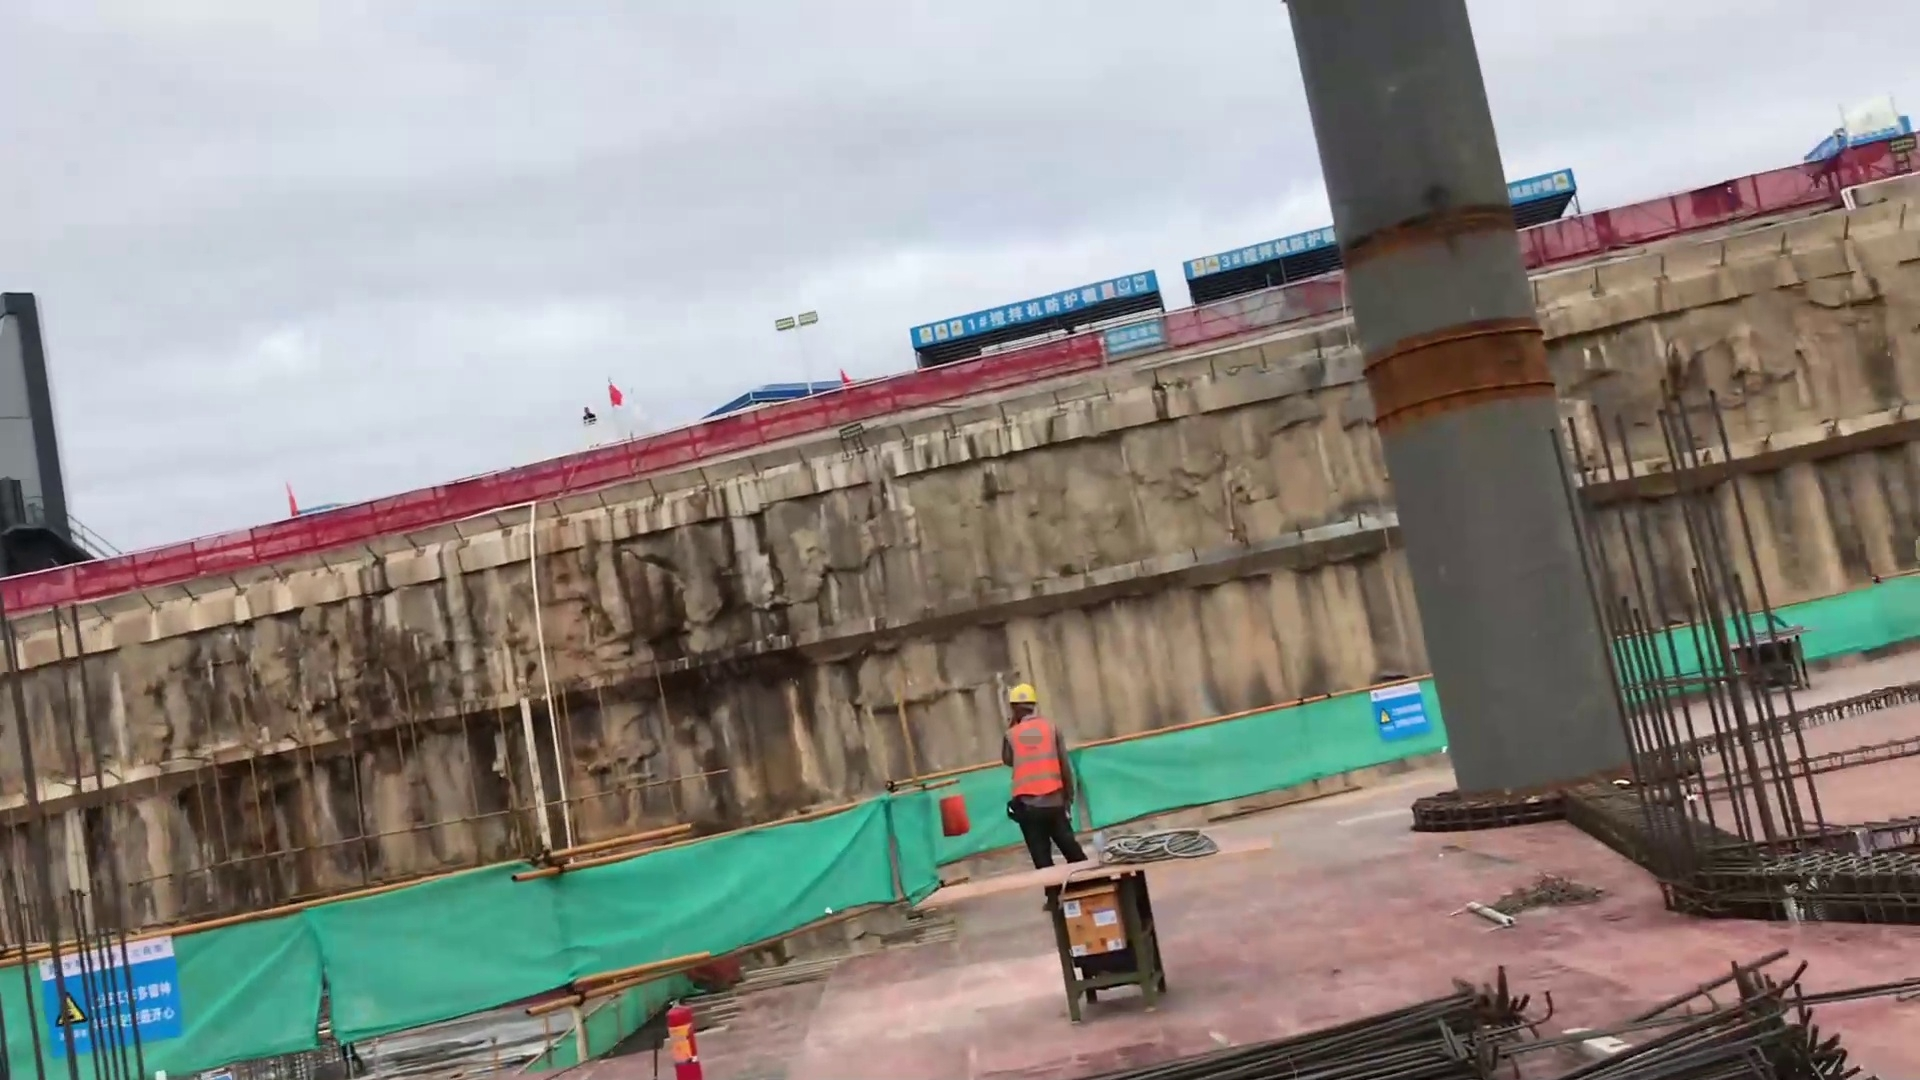cutter: (912, 834, 1266, 1024), (1723, 620, 1817, 696)
fence: (80, 432, 694, 597)
helmet: (1007, 682, 1036, 712)
person: (1001, 681, 1090, 868)
rebar: (1067, 966, 1873, 1076)
slogan: (908, 270, 1162, 353), (40, 931, 186, 1049), (1177, 224, 1337, 284), (1809, 117, 1906, 161), (1373, 682, 1430, 745), (1505, 169, 1575, 205)
vest: (1003, 717, 1067, 799)
